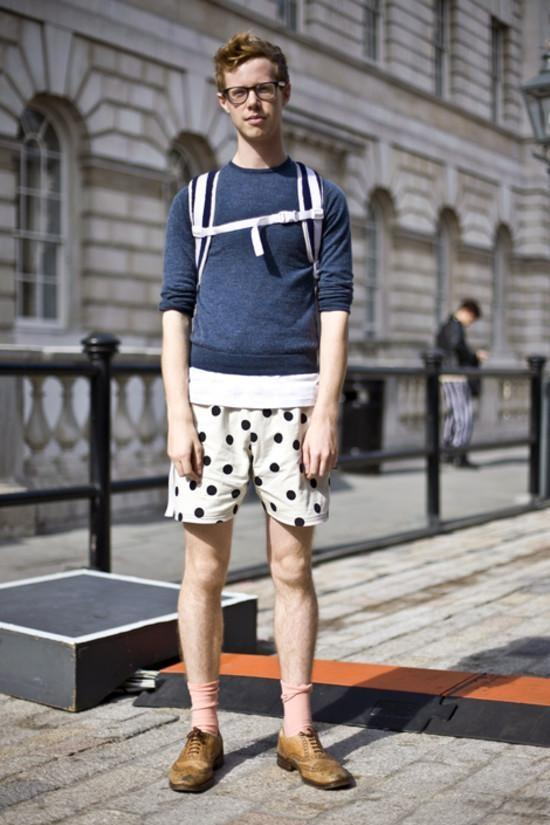Tshirt: (158, 157, 352, 406)
short: (162, 378, 332, 528)
